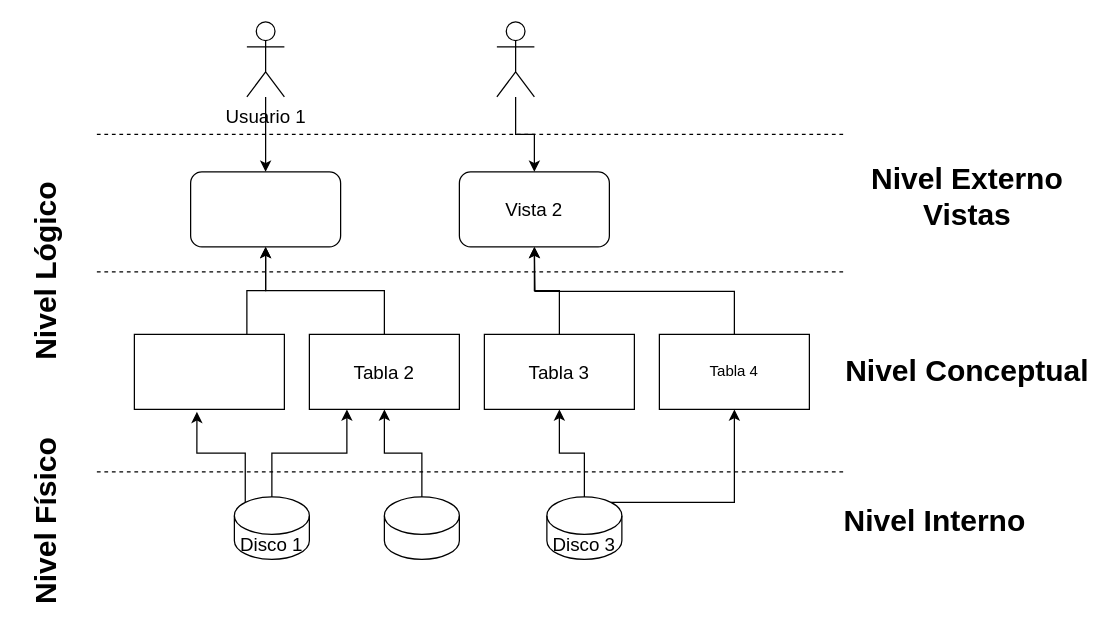
The diagram is 1110 pixels wide and 626 high, and some of its shapes have lost their labels. Here are the shapes that lost their labels. From the top down, the centre of each, then its label:
At (x=515, y=59): "Usuario 2".
At (x=265, y=209): "Vista 1".
At (x=208, y=371): "Tabla 1".
At (x=421, y=527): "Disco 2".
